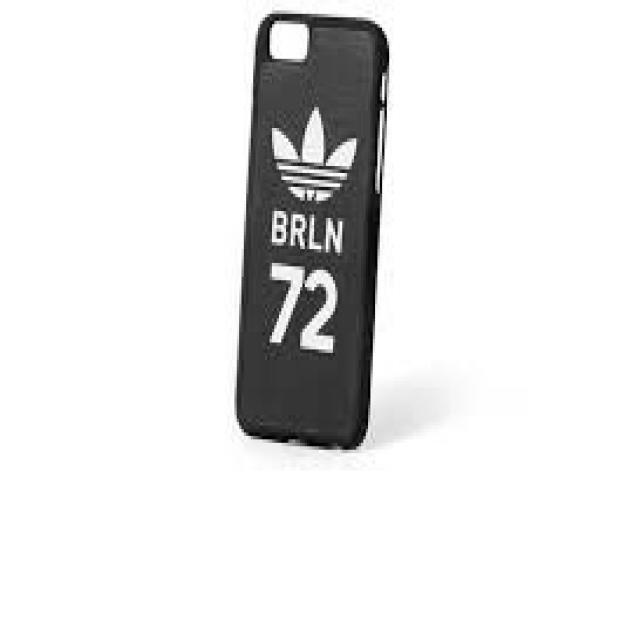Adidas: (263, 97, 364, 208)
